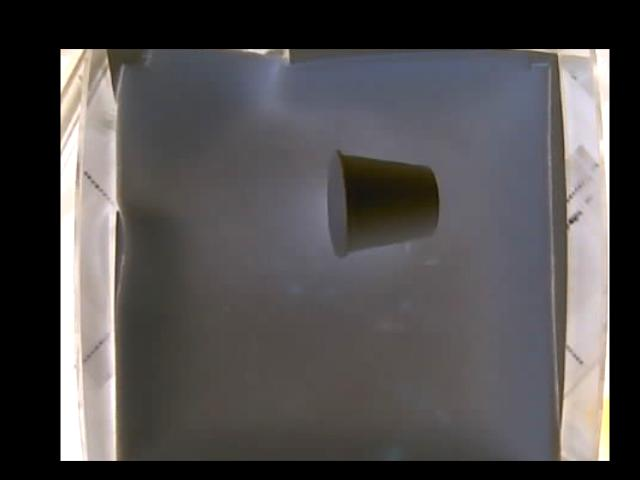Cup: (327, 150, 439, 256)
